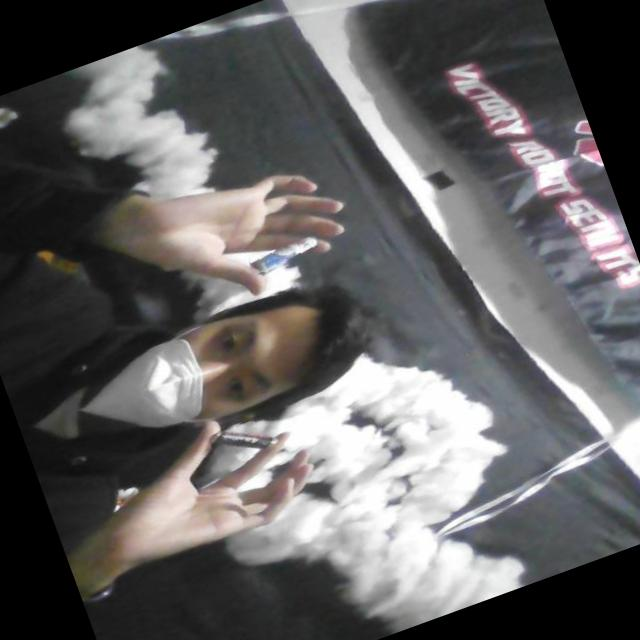Hazard: (207, 414, 280, 470), (247, 234, 323, 280)
